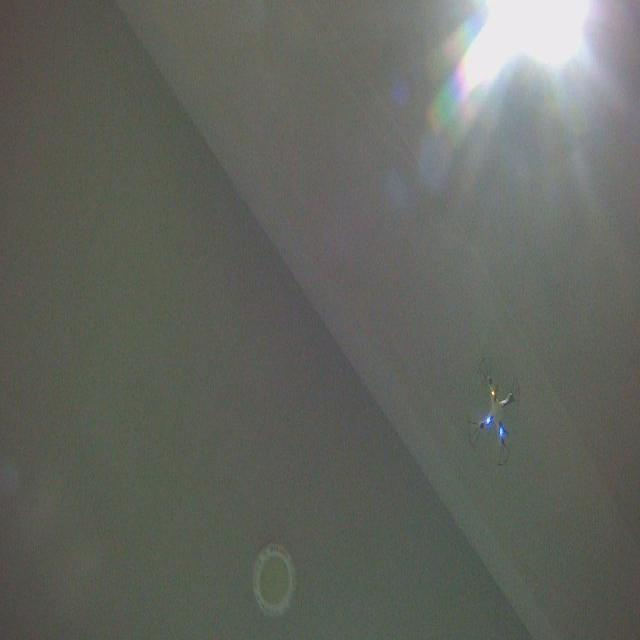drone: (466, 354, 522, 468)
